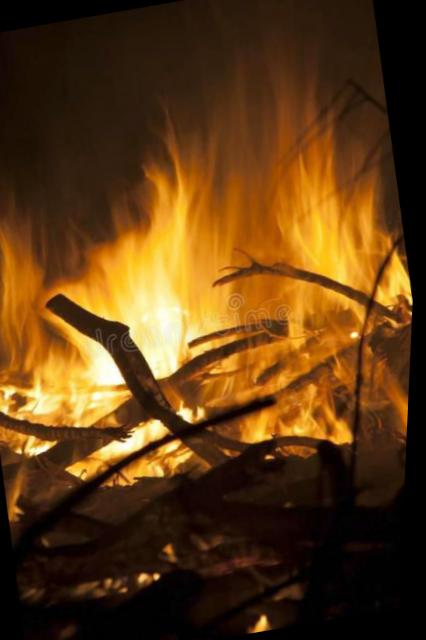fire: (259, 112, 361, 278), (98, 221, 202, 382), (0, 195, 60, 376), (173, 214, 249, 336), (235, 391, 363, 463), (0, 358, 100, 438), (205, 340, 309, 408), (323, 200, 391, 292), (281, 278, 356, 355), (136, 144, 200, 225), (82, 336, 135, 411), (121, 446, 199, 488), (376, 352, 411, 440), (68, 441, 126, 478), (371, 256, 414, 304), (319, 347, 359, 392), (118, 418, 173, 450), (13, 432, 64, 459)
